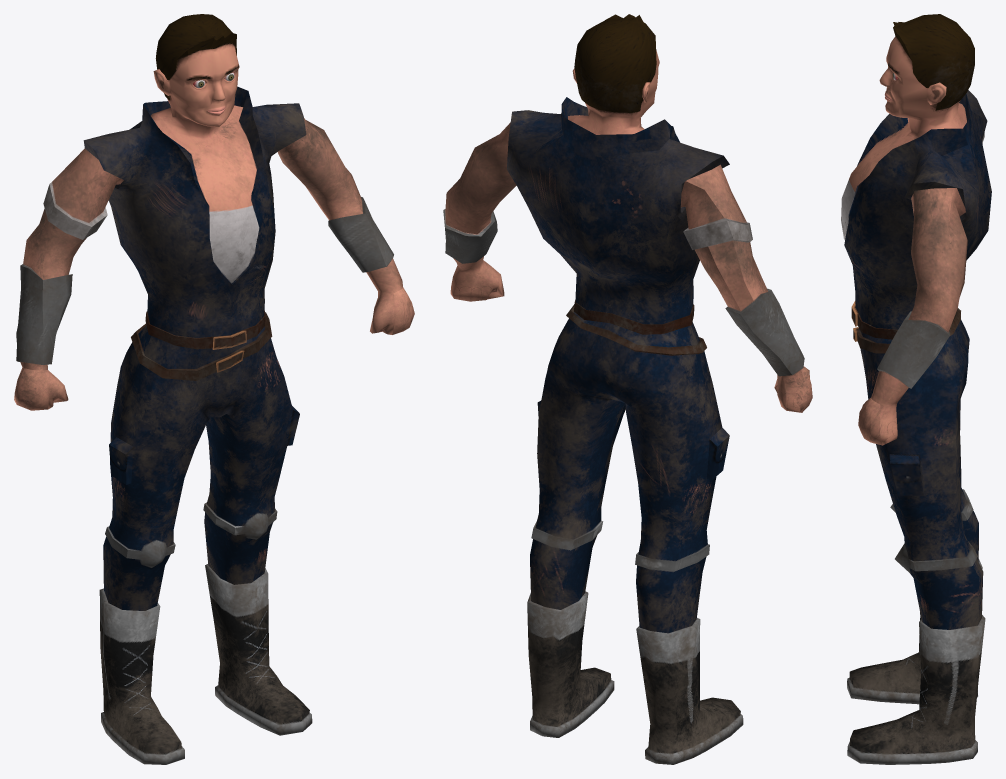
The model's file is Anim_idle_jugador.0029.obj.
The picture shows the model from 3 angles, left to right: view 1: azimuth 30°, elevation 25°; view 2: azimuth 150°, elevation 25°; view 3: azimuth 270°, elevation 25°; orthographic projection.
Visible parts, largest first — view 1: polySurface1; view 2: polySurface1; view 3: polySurface1.
Boxes of the visible parts, box(x1,y1,x2,y2) form: polySurface1: box(14, 14, 414, 764); polySurface1: box(443, 14, 812, 764); polySurface1: box(841, 14, 991, 764).
Bounding box in the file's own units: 5.38 × 9.64 × 1.86.
